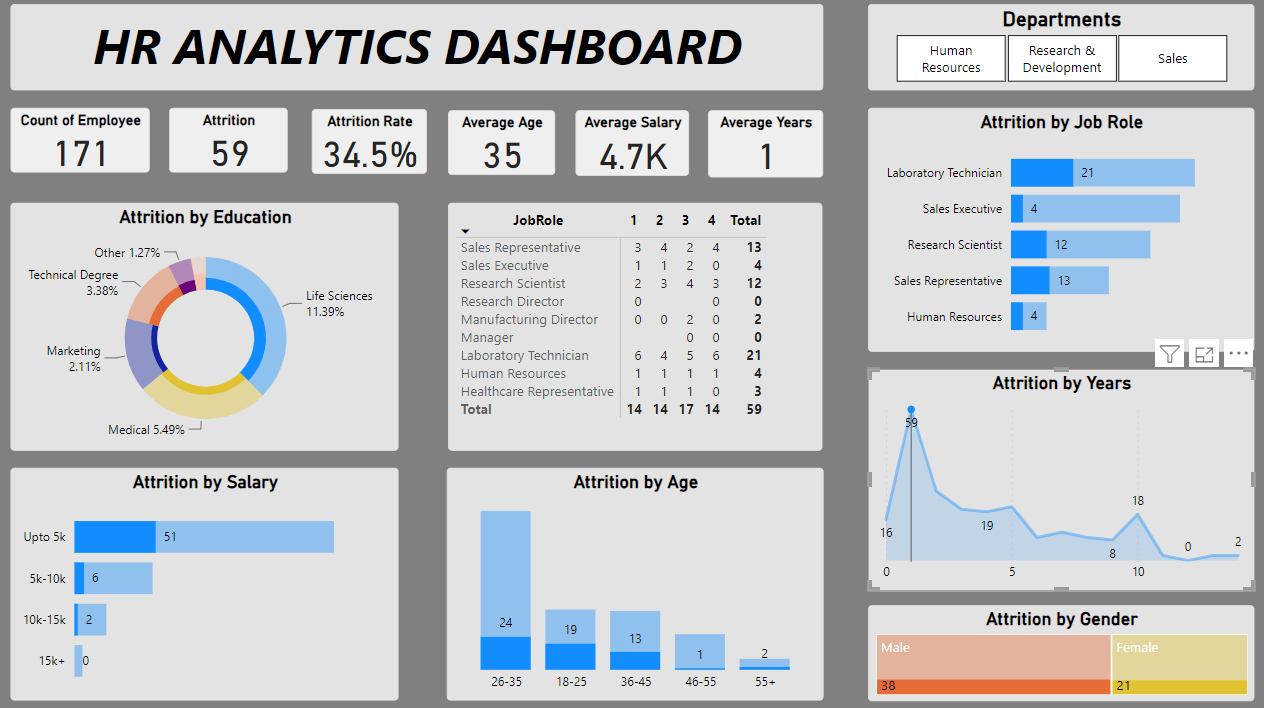

The dashboard page shown, as its layout file describes it:
{"tool":"powerbi","page":{"name":"Page 1","canvas":[1280,720],"ordinal":0},"visuals":[{"type":"card","title":"Count of Employee","fields":{"Values":["CountNonNull(HR_Analytics.EmpID)"]},"box":[17,113.8,139.4,64.9],"z":0},{"type":"card","title":"Attrition","fields":{"Values":["Sum(HR_Analytics.AttritionCount)"]},"box":[176.6,113.8,118.1,64.9],"z":1000},{"type":"card","title":"Attrition Rate","fields":{"Values":["HR_Analytics.AttritionRate"]},"box":[319.1,114.9,114.9,64.9],"z":2000},{"type":"card","title":"Average Age ","fields":{"Values":["Avg(HR_Analytics.Age)"]},"box":[455.3,116,107.4,64.9],"z":3000},{"type":"card","title":"Average Salary","fields":{"Values":["Avg(HR_Analytics.MonthlyIncome)"]},"box":[583,116,113.8,66],"z":4000},{"type":"card","title":"Average Years ","fields":{"Values":["Avg(HR_Analytics.YearsAtCompany)"]},"box":[714.9,116,114.9,67],"z":5000},{"type":"donutChart","title":"Attrition by Education","fields":{"Category":["HR_Analytics.EducationField"],"Y":["Sum(HR_Analytics.AttritionCount)"]},"box":[17,208.5,388.3,247.9],"z":6000},{"type":"columnChart","title":"Attrition by Age","fields":{"Category":["HR_Analytics.AgeGroup"],"Y":["Sum(HR_Analytics.AttritionCount)"]},"box":[453.2,473.4,376.6,233],"z":7000},{"type":"pivotTable","fields":{"Rows":["HR_Analytics.JobRole"],"Columns":["HR_Analytics.JobSatisfaction"],"Values":["Sum(HR_Analytics.AttritionCount)"]},"box":[455.3,208.5,374.5,247.9],"z":8000},{"type":"barChart","title":"Attrition by Salary","fields":{"Category":["HR_Analytics.SalarySlab"],"Y":["Sum(HR_Analytics.AttritionCount)"]},"box":[17,473.4,388.3,233],"z":9000},{"type":"barChart","title":"Attrition by Job Role","fields":{"Category":["HR_Analytics.JobRole"],"Y":["Sum(HR_Analytics.AttritionCount)"]},"box":[875.5,113.8,386.2,243.6],"z":10000},{"type":"areaChart","title":"Attrition by Years","fields":{"Category":["HR_Analytics.YearsAtCompany"],"Y":["Sum(HR_Analytics.AttritionCount)"]},"box":[875,375,386.2,222.5],"z":11000},{"type":"treemap","title":"Attrition by Gender","fields":{"Group":["HR_Analytics.Gender"],"Values":["Sum(HR_Analytics.AttritionCount)"]},"box":[875.5,610.6,386.2,95.7],"z":12000},{"type":"slicer","title":"Departments","fields":{"Values":["HR_Analytics.Department"]},"box":[875.5,9.6,386.2,86.2],"z":13000},{"type":"textbox","box":[17,9.6,812.8,86.2],"z":14000}]}

Visuals, with their boxes in screenshot pixels (x1, y1, x2, y2), scaled from the page's 1280x720 canvas onto the 1264x708 screenshot:
"Count of Employee" card: crop(17, 112, 154, 176)
"Attrition" card: crop(174, 112, 291, 176)
"Attrition Rate" card: crop(315, 113, 429, 177)
"Average Age " card: crop(450, 114, 556, 178)
"Average Salary" card: crop(576, 114, 688, 179)
"Average Years " card: crop(706, 114, 819, 180)
"Attrition by Education" donutChart: crop(17, 205, 400, 449)
"Attrition by Age" columnChart: crop(448, 466, 819, 695)
pivotTable - HR_Analytics.JobRole x HR_Analytics.JobSatisfaction: crop(450, 205, 819, 449)
"Attrition by Salary" barChart: crop(17, 466, 400, 695)
"Attrition by Job Role" barChart: crop(865, 112, 1246, 351)
"Attrition by Years" areaChart: crop(864, 369, 1245, 588)
"Attrition by Gender" treemap: crop(865, 600, 1246, 695)
"Departments" slicer: crop(865, 9, 1246, 94)
textbox: crop(17, 9, 819, 94)
